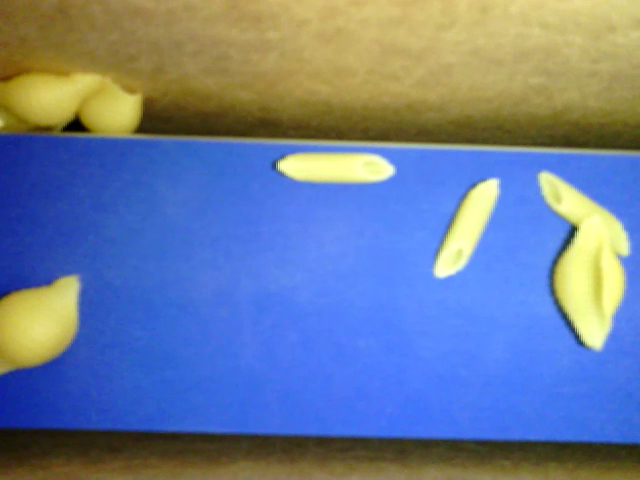penne: (536, 169, 628, 255), (434, 176, 501, 277), (271, 149, 397, 183)
shell: (545, 205, 620, 355), (1, 272, 85, 372), (1, 75, 101, 126), (74, 72, 141, 136)
